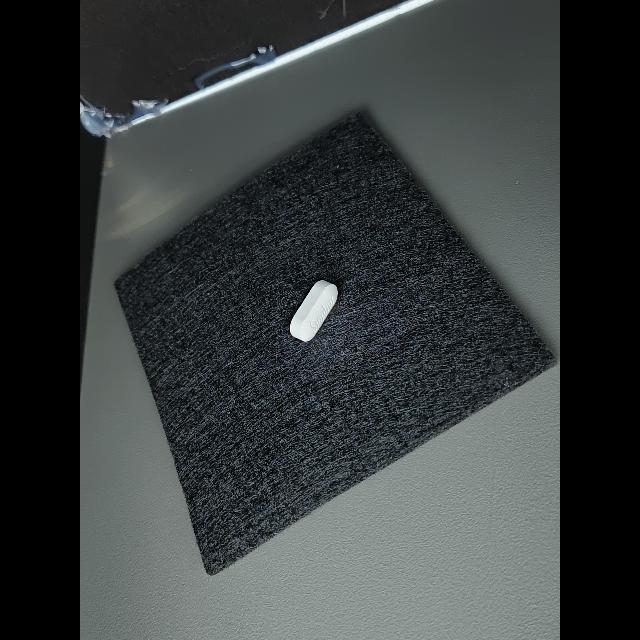Intact Pill: (290, 280, 338, 342)
